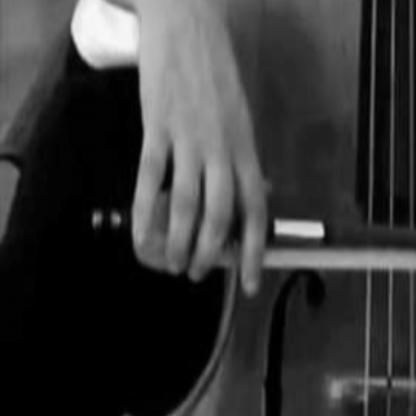good: (103, 44, 288, 332)
